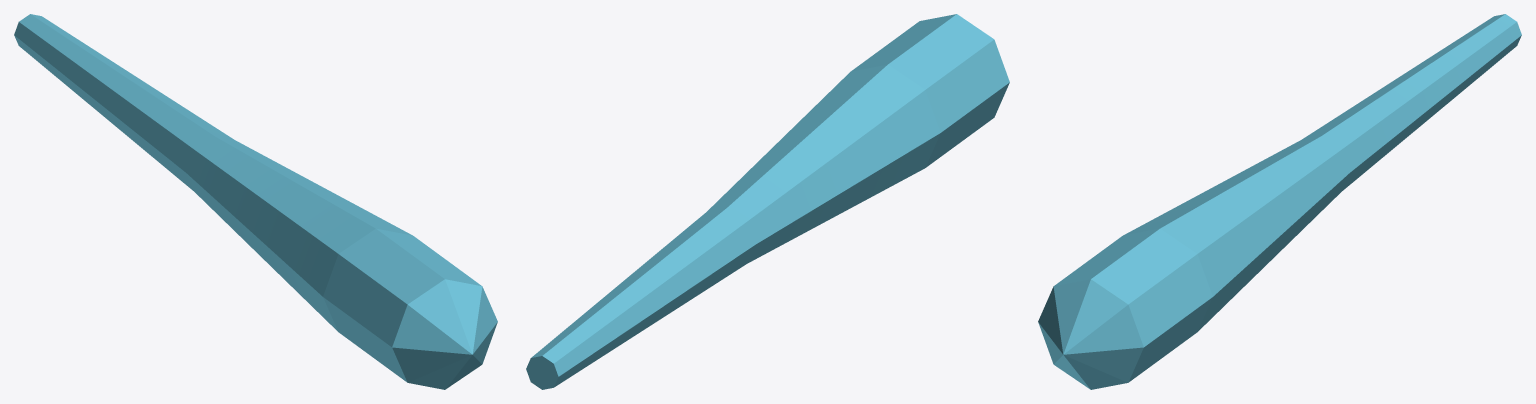
File: blade-club.glb
3 views of the same model, side by side, from view 1: azimuth 30°, elevation 25°; view 2: azimuth 150°, elevation 25°; view 3: azimuth 330°, elevation 25° (orthographic).
Visible parts, largest first — view 1: m; view 2: m; view 3: m.
Boxes of the visible parts, bbox=[...] form: m: bbox=[14, 14, 497, 389]; m: bbox=[526, 14, 1009, 389]; m: bbox=[1038, 14, 1521, 389].
Bounding box in the file's own units: 0.026 × 0.026 × 0.1882.
